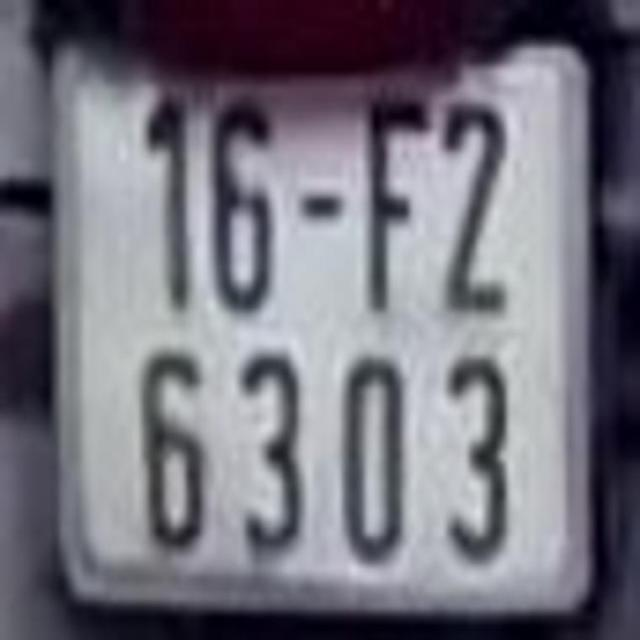0: (341, 354, 406, 562)
1: (145, 100, 194, 311)
2: (440, 96, 510, 315)
3: (443, 351, 510, 563), (237, 350, 304, 555)
6: (209, 98, 276, 312), (142, 349, 207, 552)
F: (365, 94, 430, 313)
